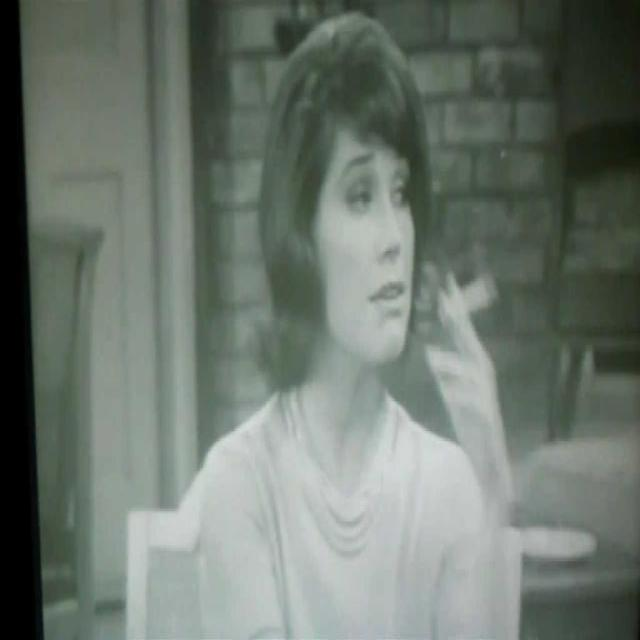smoking: (171, 10, 520, 637)
